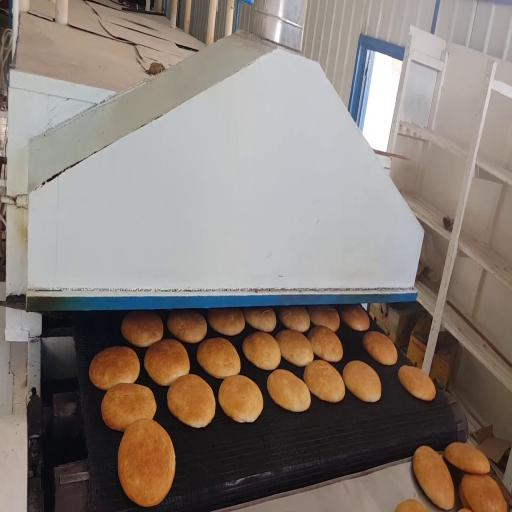bread: (118, 419, 175, 507), (413, 446, 454, 510), (101, 384, 156, 431), (167, 375, 215, 428), (89, 347, 139, 390), (219, 375, 263, 422), (144, 340, 189, 385), (267, 369, 310, 411), (304, 360, 345, 402), (197, 338, 240, 378), (461, 475, 507, 511), (343, 360, 381, 402), (122, 311, 163, 347), (444, 442, 490, 474), (243, 332, 281, 370), (276, 330, 313, 366), (167, 310, 207, 343), (398, 366, 435, 401), (308, 326, 343, 362), (363, 331, 397, 365), (207, 309, 245, 335), (278, 306, 310, 333), (340, 304, 370, 332), (242, 308, 276, 332), (308, 306, 339, 332), (395, 499, 427, 511), (459, 482, 468, 509), (459, 508, 471, 511)
